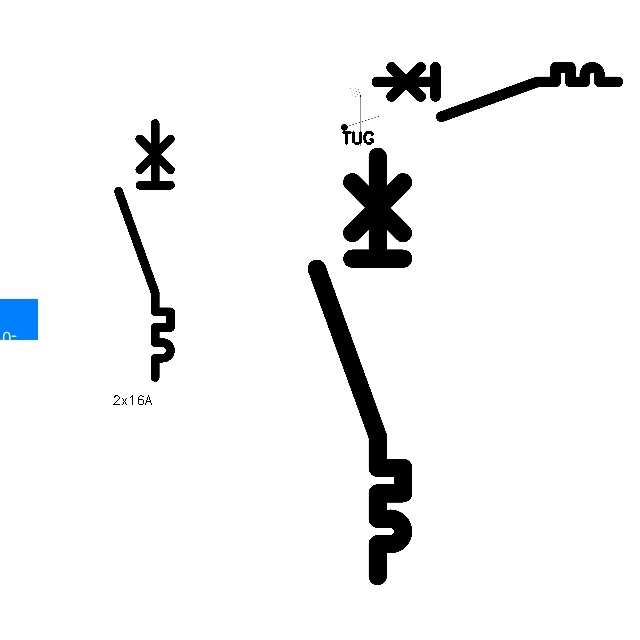interruptor_termomagnetico: (306, 145, 414, 586), (112, 117, 177, 384), (370, 61, 623, 123)
